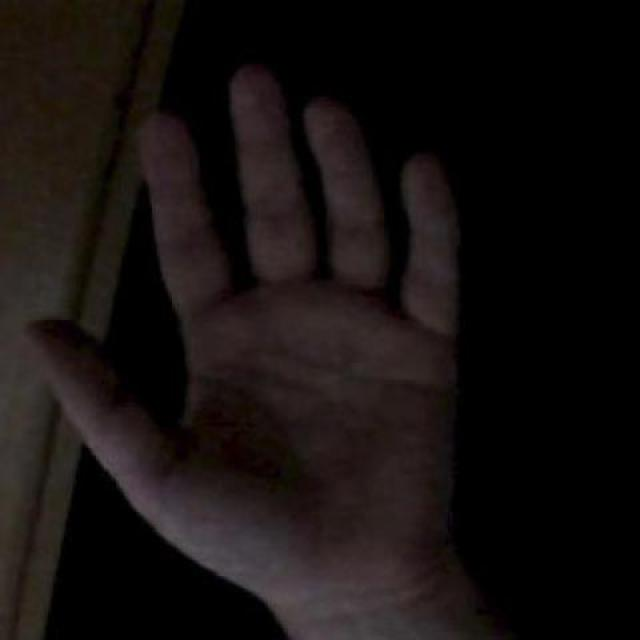Open Hand: (29, 65, 514, 640)
